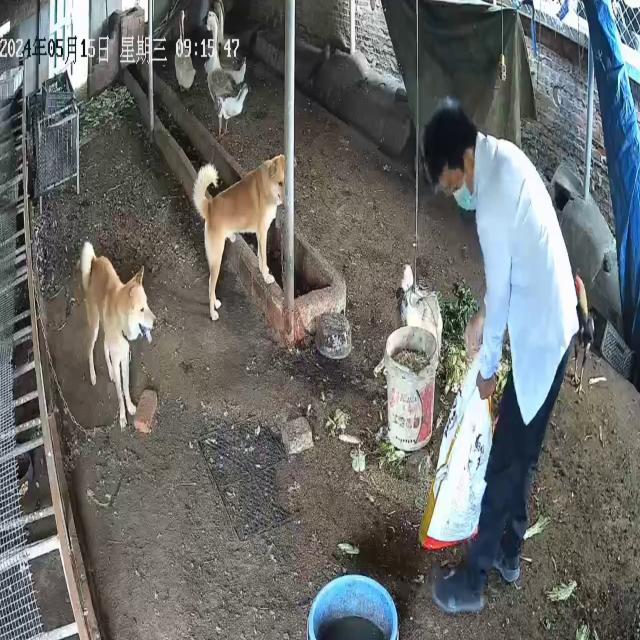dog: (193, 154, 286, 323), (81, 241, 157, 431)
